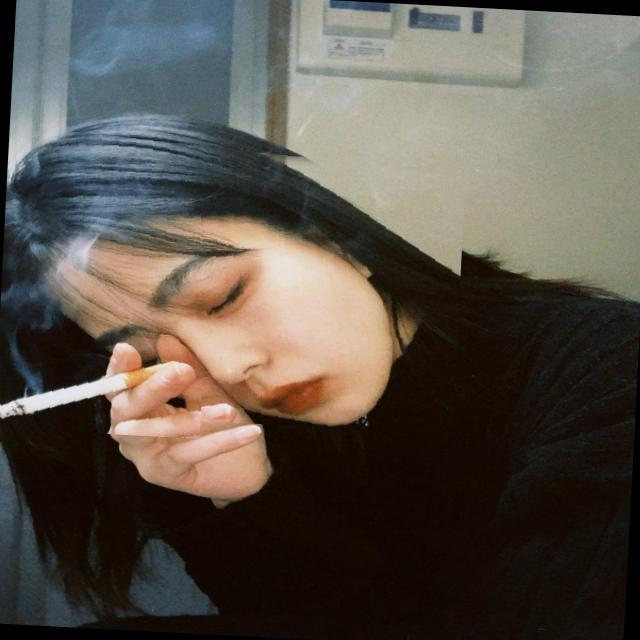cigarette: (0, 361, 203, 439)
